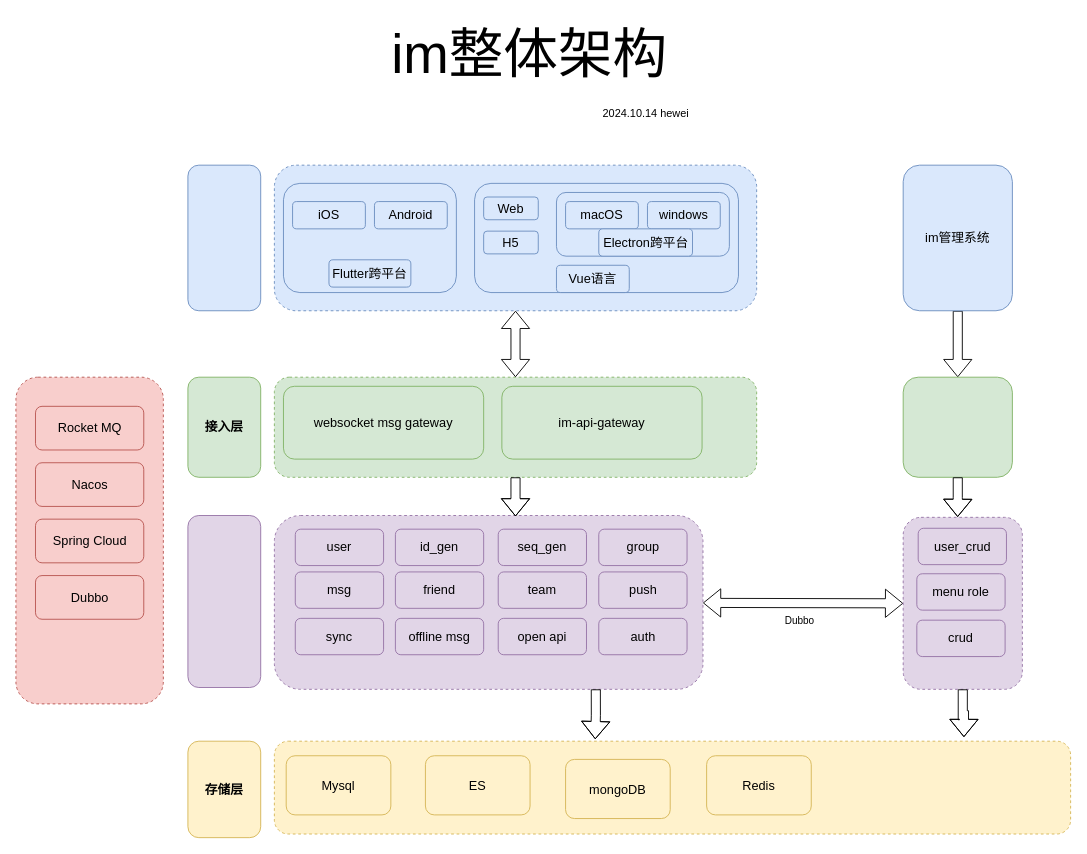
Image size: 1087x854. Some labels were removed from this diagram. The centre of each missing label's shape, as x and y in pixels:
"admin" belongs at point (957, 426).
"业务层" belongs at point (224, 601).
"终端层" belongs at point (224, 237).
